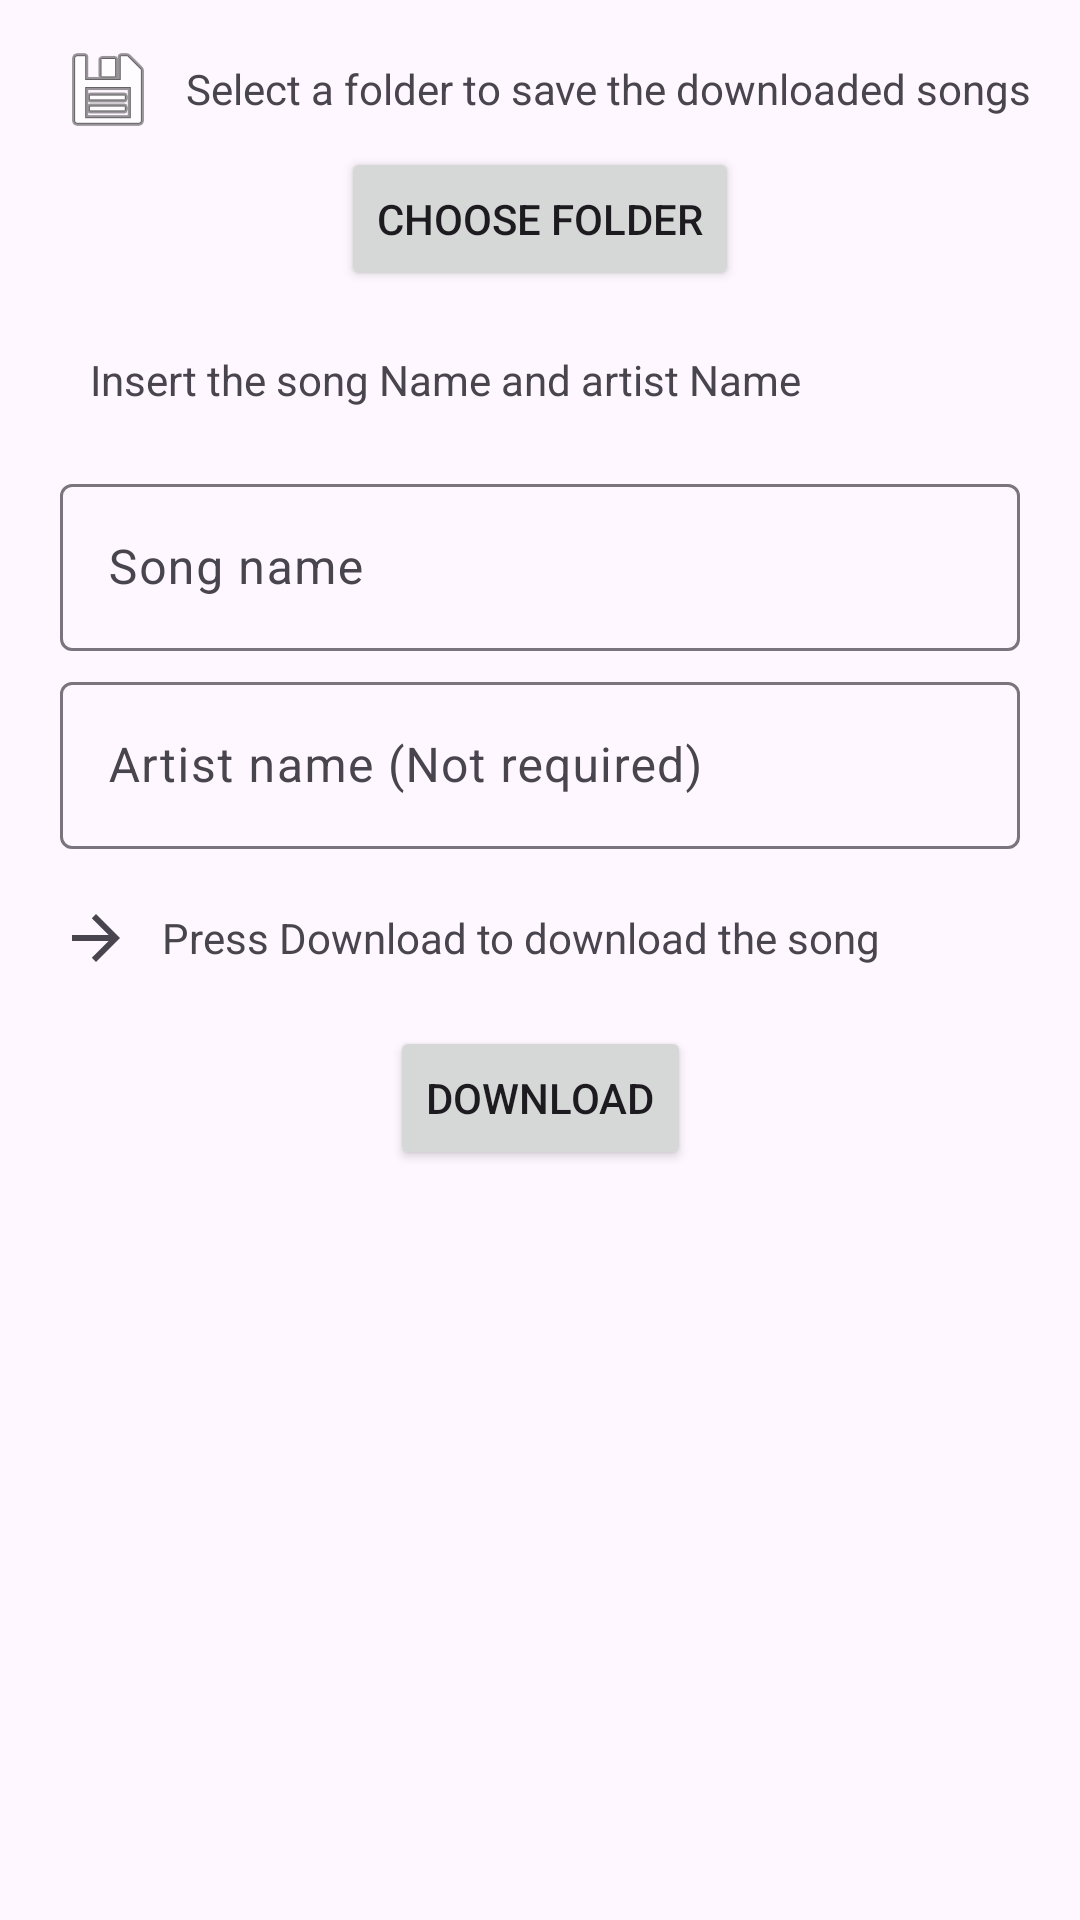

Where to tap for icons on this 1080×1920 app screen, as (x=x, y=y):
Storage Icon: (x=108, y=89)
